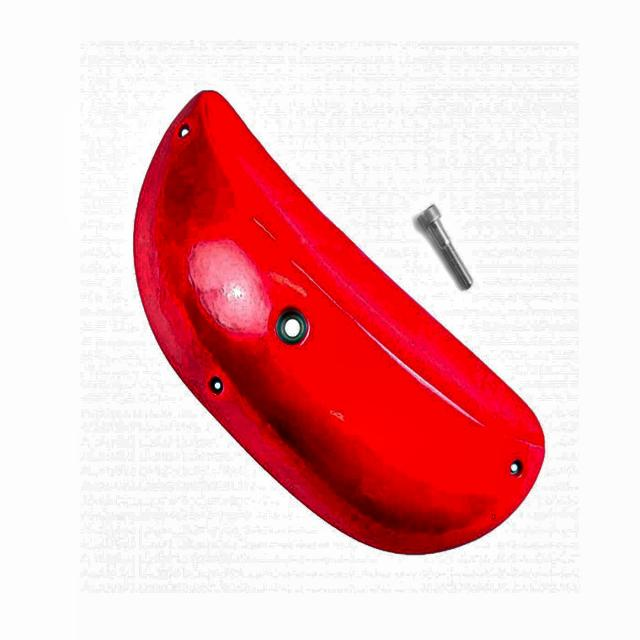Hold: (114, 78, 574, 562)
